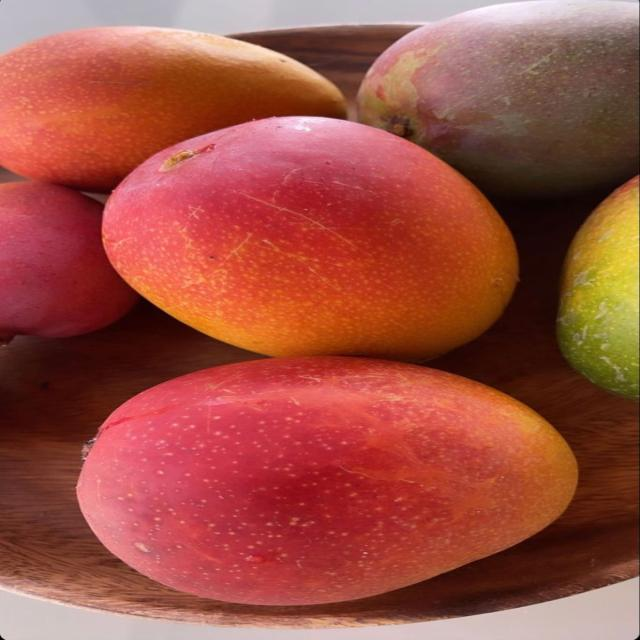mango: (78, 356, 577, 605), (103, 117, 518, 361), (0, 27, 346, 191), (357, 0, 639, 197), (0, 182, 138, 345), (557, 175, 639, 402)
